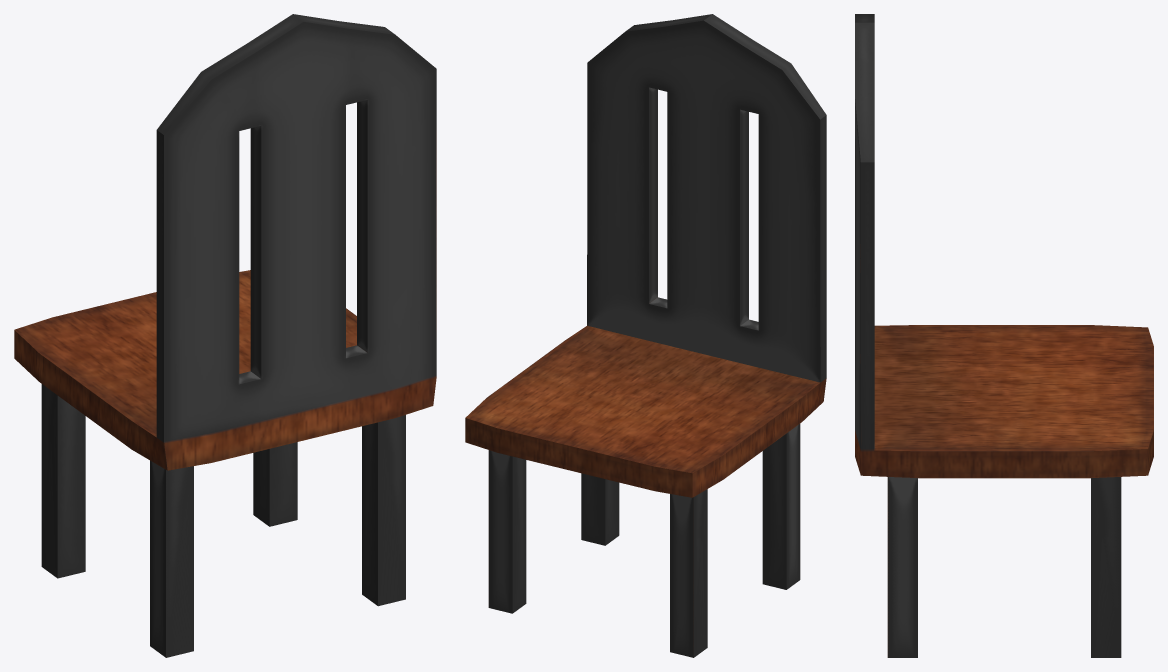
Rendered from Chair.fbx.
3 views of the same model, side by side, from view 1: azimuth 30°, elevation 25°; view 2: azimuth 150°, elevation 25°; view 3: azimuth 270°, elevation 25° (orthographic). The views are drawn at different scales.
Visible parts, largest first — view 1: Chair; view 2: Chair; view 3: Chair.
Boxes of the visible parts, x1,y1,x2,y2 form: Chair: (14,14,436,657); Chair: (465,14,826,657); Chair: (855,14,1153,657).
Bounding box in the file's own units: 0.7 × 0.7 × 1.5.
